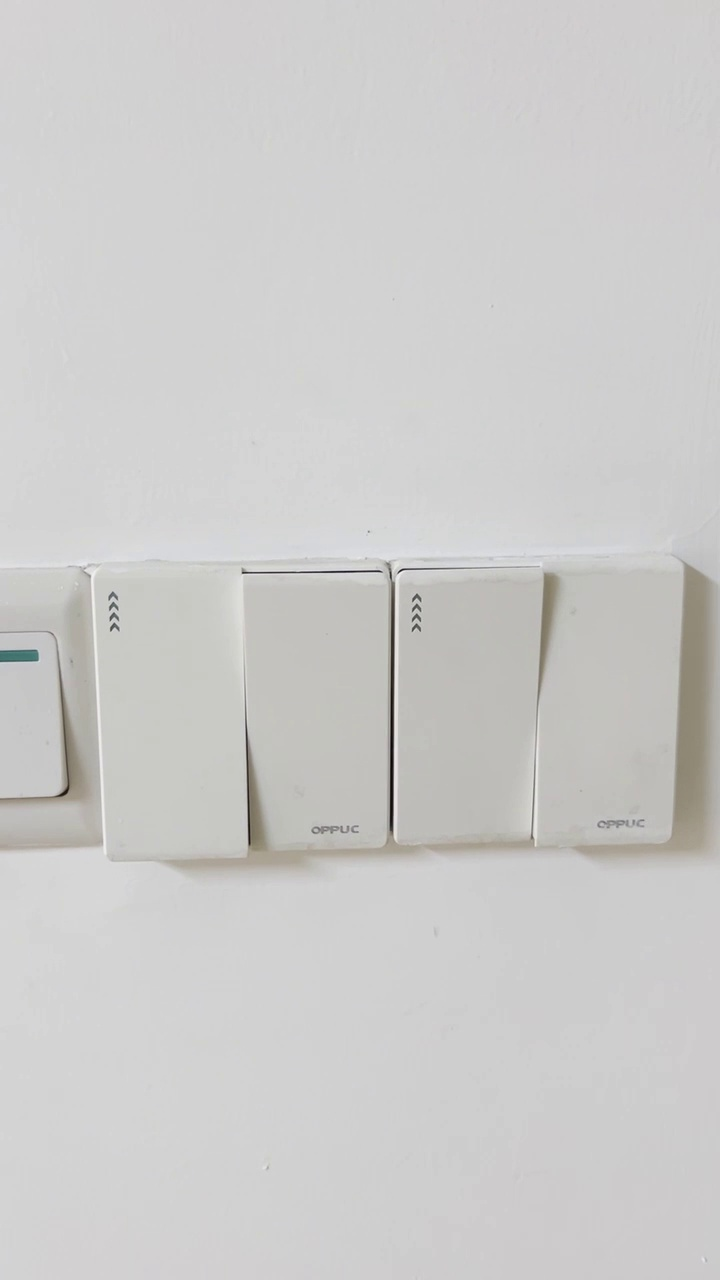button1: (106, 572, 243, 853), (248, 578, 386, 843), (402, 577, 531, 839), (545, 575, 669, 843)
